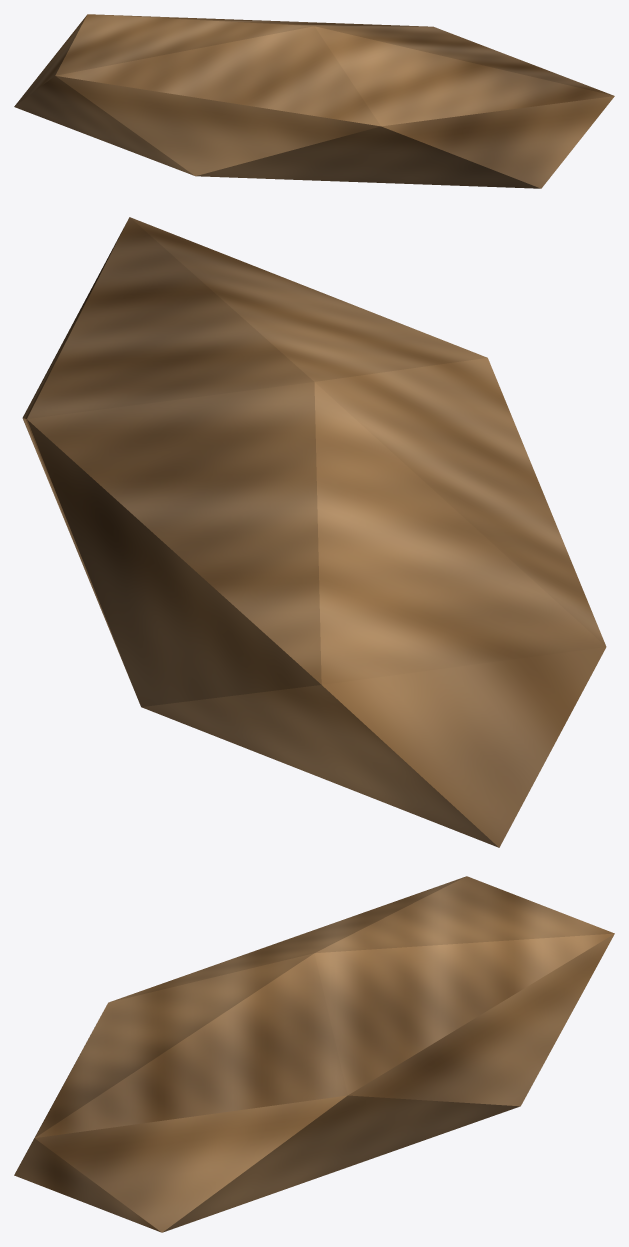
Rendered from 2015_sandstone_talus_10.dae.
The picture shows the model from 3 angles, top to bottom: view 1: azimuth 30°, elevation 25°; view 2: azimuth 150°, elevation 25°; view 3: azimuth 270°, elevation 25°; orthographic projection. The views are drawn at different scales.
Visible parts, largest first — view 1: Node; view 2: Node; view 3: Node.
Part boxes in pixels (left/top/right/bottom): Node: left=14, top=14, right=614, bottom=188; Node: left=22, top=217, right=606, bottom=847; Node: left=14, top=876, right=614, bottom=1232.
Size of the model in its own units: 1.07 by 1.02 by 0.3803.
1 material, 1 textured.
